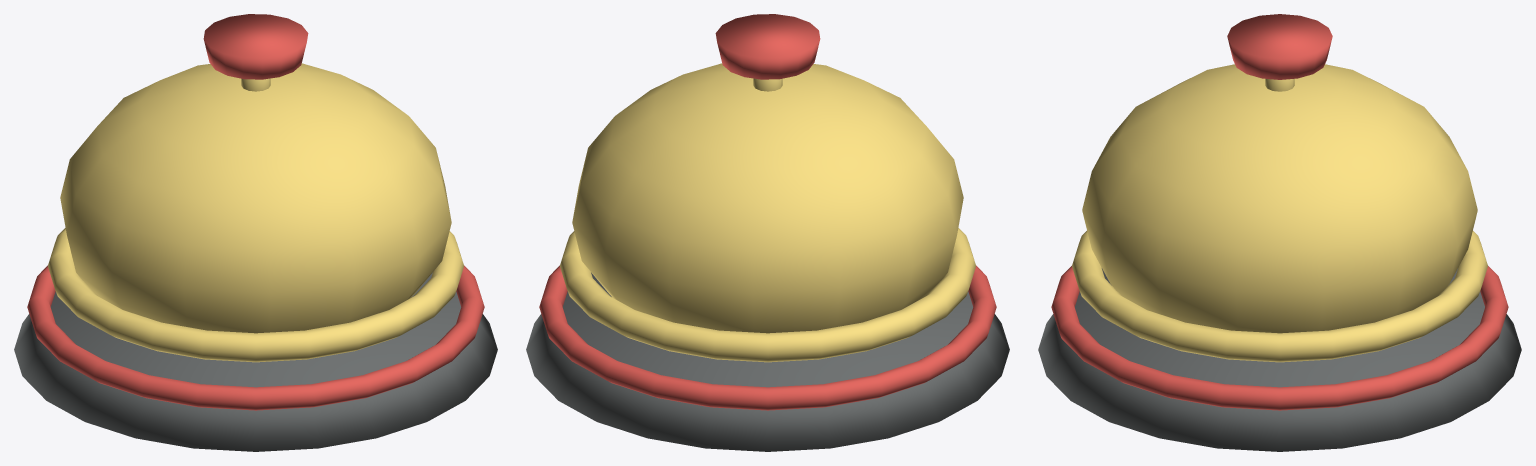
File: commissar-bell.glb
3 views of the same model, side by side, from view 1: azimuth 30°, elevation 25°; view 2: azimuth 150°, elevation 25°; view 3: azimuth 270°, elevation 25° (orthographic).
Visible parts, largest first — view 1: Bell_Dome, Bell_Base, Bell_Plunger; view 2: Bell_Dome, Bell_Base, Bell_Plunger; view 3: Bell_Dome, Bell_Base, Bell_Plunger.
Boxes of the visible parts, bbox=[...] form: Bell_Dome: bbox=[48, 63, 463, 362]; Bell_Base: bbox=[14, 265, 497, 451]; Bell_Plunger: bbox=[203, 14, 308, 91]; Bell_Dome: bbox=[560, 63, 975, 362]; Bell_Base: bbox=[526, 265, 1009, 451]; Bell_Plunger: bbox=[715, 14, 820, 91]; Bell_Dome: bbox=[1072, 64, 1487, 362]; Bell_Base: bbox=[1038, 266, 1521, 451]; Bell_Plunger: bbox=[1227, 14, 1332, 91].
Size of the model in its own units: 0.33 by 0.236 by 0.33.
